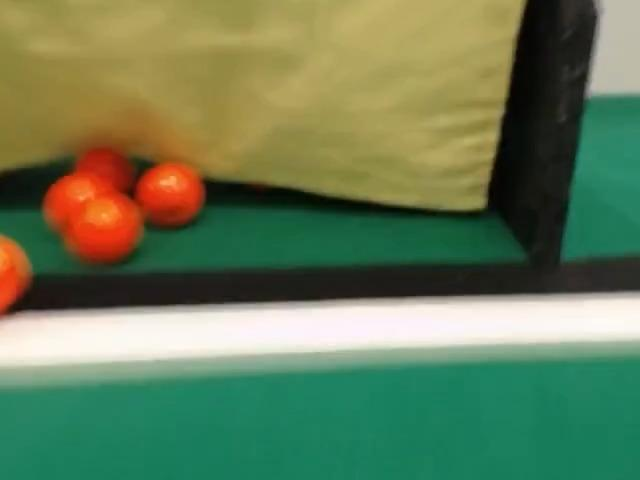Ball: (63, 193, 144, 263), (42, 171, 117, 233), (134, 162, 205, 227), (75, 148, 136, 193), (0, 235, 31, 314)
